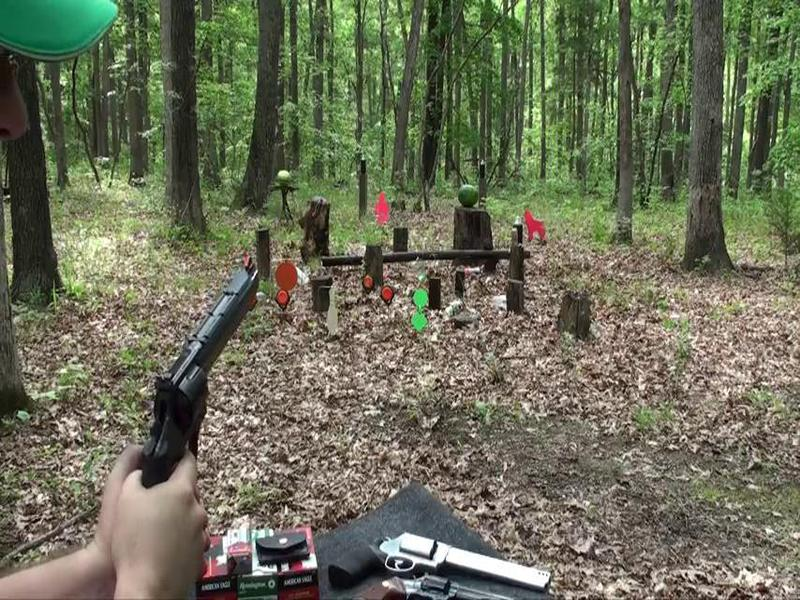Revolver: (127, 262, 277, 501)
